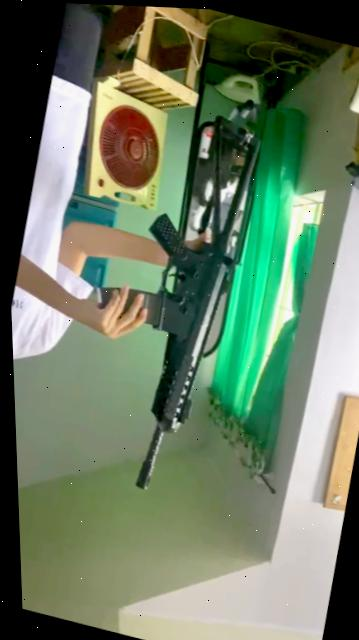rifle: (41, 87, 275, 525)
